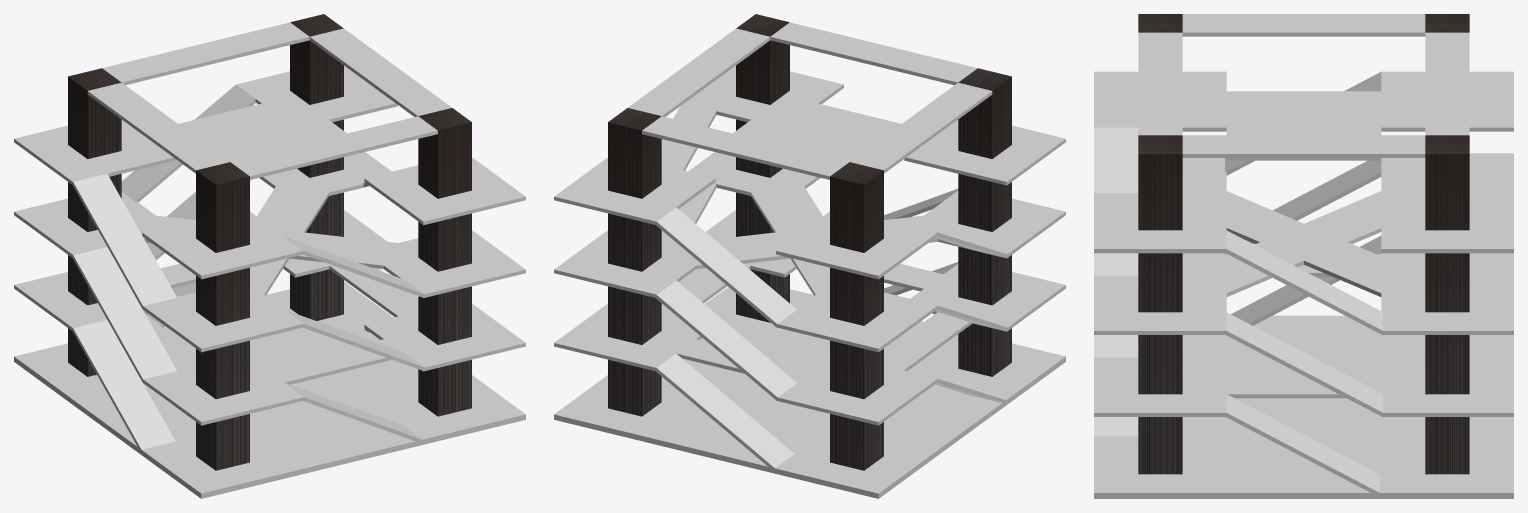
The model's file is Stage4.FBX.
3 views of the same model, side by side, from view 1: azimuth 30°, elevation 25°; view 2: azimuth 150°, elevation 25°; view 3: azimuth 270°, elevation 25° (orthographic). The views are drawn at different scales.
Visible parts, largest first — view 1: Box046, Box047, Box051, Box050, Box090, Box049, Box065, Box082, Box072, Box096, Box095, Box101 (+24 smaller); view 2: Box046, Box049, Box050, Box047, Box051, Box090, Box094, Box100, Box097, Box093, Box095, Box057 (+22 smaller); view 3: Box046, Box050, Box051, Box090, Box093, Box096, Box102, Box091, Box055, Box092, Box099, Box056 (+22 smaller).
Part boxes in pixels (bbox=[...]): Box046: bbox=[14, 281, 525, 498]; Box047: bbox=[196, 162, 249, 470]; Box051: bbox=[418, 108, 471, 416]; Box050: bbox=[290, 14, 343, 320]; Box090: bbox=[178, 95, 346, 161]; Box049: bbox=[68, 68, 121, 376]; Box065: bbox=[73, 247, 176, 381]; Box082: bbox=[72, 174, 176, 308]; Box072: bbox=[72, 320, 175, 449]; Box096: bbox=[364, 157, 525, 225]; Box095: bbox=[142, 211, 303, 279]; Box101: bbox=[142, 358, 303, 425]; Box046: bbox=[554, 287, 1065, 498]; Box049: bbox=[830, 162, 883, 470]; Box050: bbox=[608, 108, 661, 416]; Box047: bbox=[958, 68, 1011, 376]; Box051: bbox=[736, 14, 789, 322]; Box090: bbox=[733, 95, 901, 161]; Box094: bbox=[776, 211, 937, 279]; Box100: bbox=[776, 358, 937, 425]; Box097: bbox=[776, 284, 937, 352]; Box093: bbox=[554, 157, 715, 224]; Box095: bbox=[904, 120, 1065, 185]; Box057: bbox=[642, 116, 849, 179]; Box046: bbox=[1094, 315, 1513, 498]; Box050: bbox=[1425, 135, 1469, 474]; Box051: bbox=[1138, 135, 1182, 474]; Box090: bbox=[1226, 91, 1381, 160]; Box093: bbox=[1381, 193, 1513, 253]; Box096: bbox=[1094, 193, 1226, 253]; Box102: bbox=[1094, 357, 1226, 416]; Box091: bbox=[1381, 357, 1513, 416]; Box055: bbox=[1182, 190, 1389, 296]; Box092: bbox=[1381, 274, 1513, 334]; Box099: bbox=[1094, 275, 1226, 334]; Box056: bbox=[1218, 190, 1425, 296].
Bounding box in the file's own units: 9500 × 8150 × 9500.
4 materials, 4 textured.
